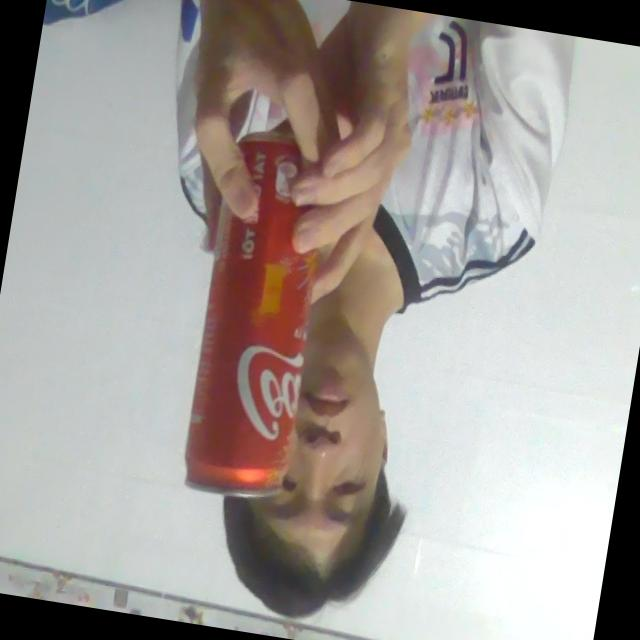cocacola: (165, 116, 352, 514)
